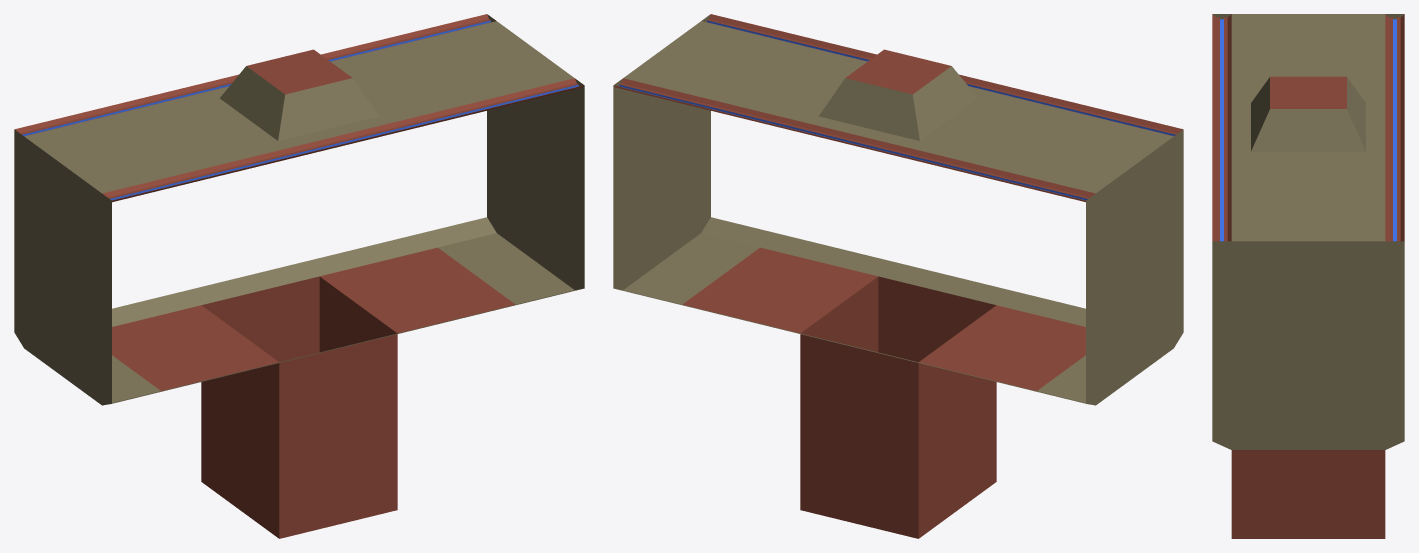
File: Dragonfly_Crusher_MainRoomSlice_1.fbx
3 views of the same model, side by side, from view 1: azimuth 30°, elevation 25°; view 2: azimuth 150°, elevation 25°; view 3: azimuth 270°, elevation 25° (orthographic).
Parts seen in each view (by area): view 1: Crusher_Room_Slice; view 2: Crusher_Room_Slice; view 3: Crusher_Room_Slice.
Part boxes in pixels (x1,y1,x2,y2): Crusher_Room_Slice: (14, 14, 584, 538); Crusher_Room_Slice: (613, 14, 1183, 538); Crusher_Room_Slice: (1212, 14, 1404, 538).
Size of the model in its own units: 28 by 24 by 10.
